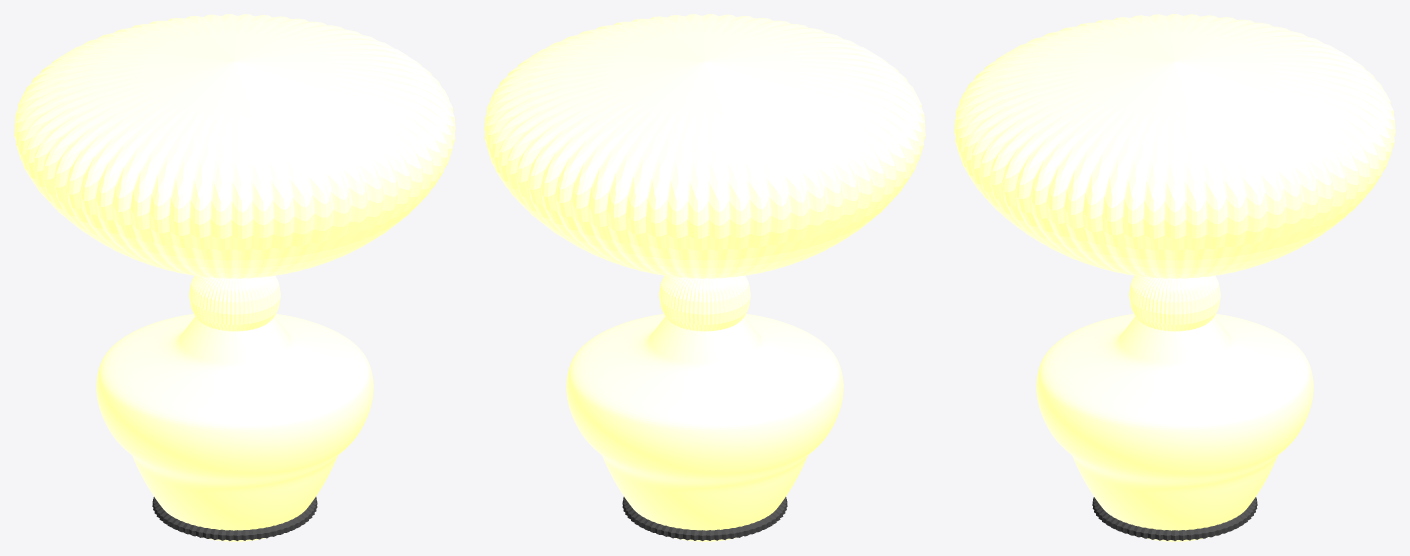
3 renders of one model, left to right at view 1: azimuth 30°, elevation 25°; view 2: azimuth 150°, elevation 25°; view 3: azimuth 270°, elevation 25°, orthographic.
Visible parts, largest first — view 1: Amber_Shade, Amber_Bulb, Amber_Neck, Metal_Base; view 2: Amber_Shade, Amber_Bulb, Amber_Neck, Metal_Base; view 3: Amber_Shade, Amber_Bulb, Amber_Neck, Metal_Base.
Part boxes in pixels (box(x1,y1,x2,y2)): Amber_Shade: box(14, 14, 455, 278); Amber_Bulb: box(96, 313, 373, 541); Amber_Neck: box(189, 276, 280, 331); Metal_Base: box(152, 497, 317, 540); Amber_Shade: box(484, 14, 925, 278); Amber_Bulb: box(566, 313, 843, 541); Amber_Neck: box(659, 276, 750, 331); Metal_Base: box(622, 497, 787, 540); Amber_Shade: box(954, 14, 1395, 278); Amber_Bulb: box(1036, 313, 1313, 541); Amber_Neck: box(1129, 275, 1220, 331); Metal_Base: box(1092, 497, 1257, 540).
Size of the model in its own units: 2.55 by 2.91 by 2.55.
